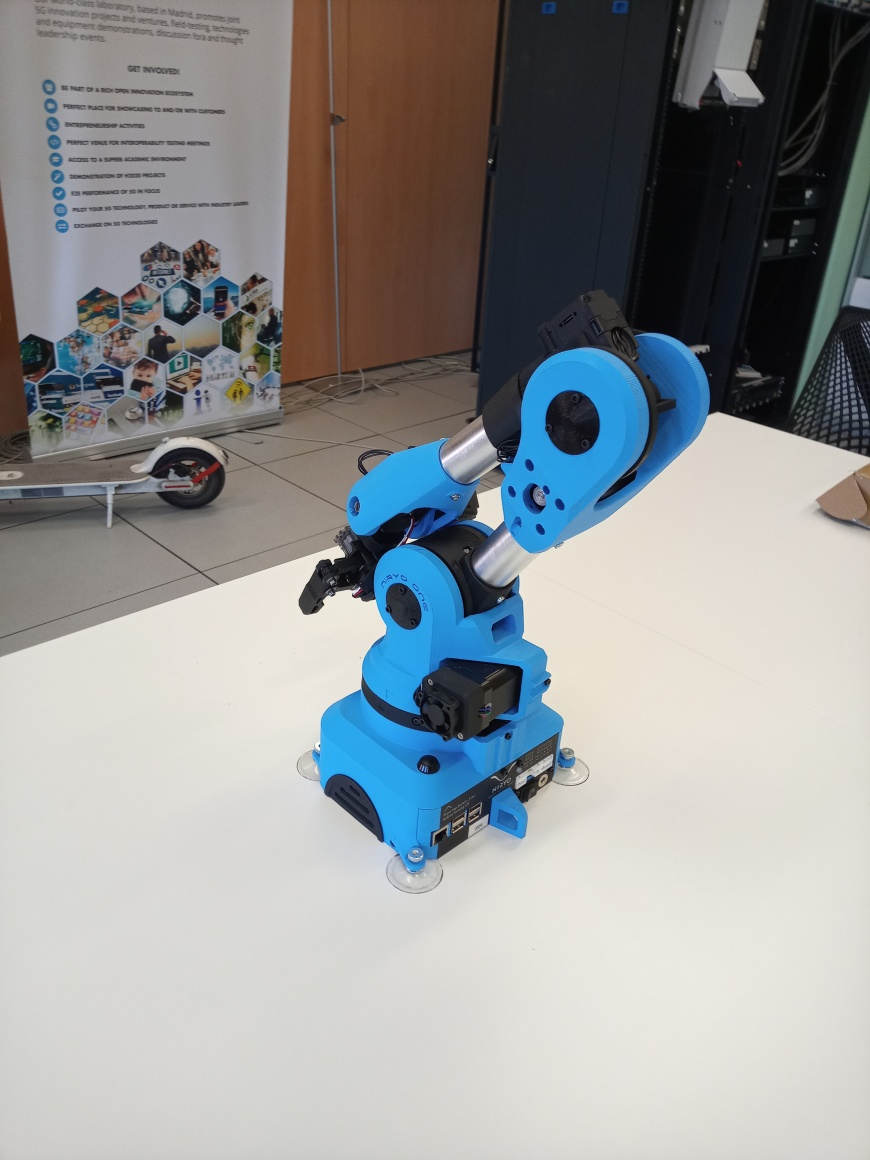robot: (293, 284, 712, 897)
